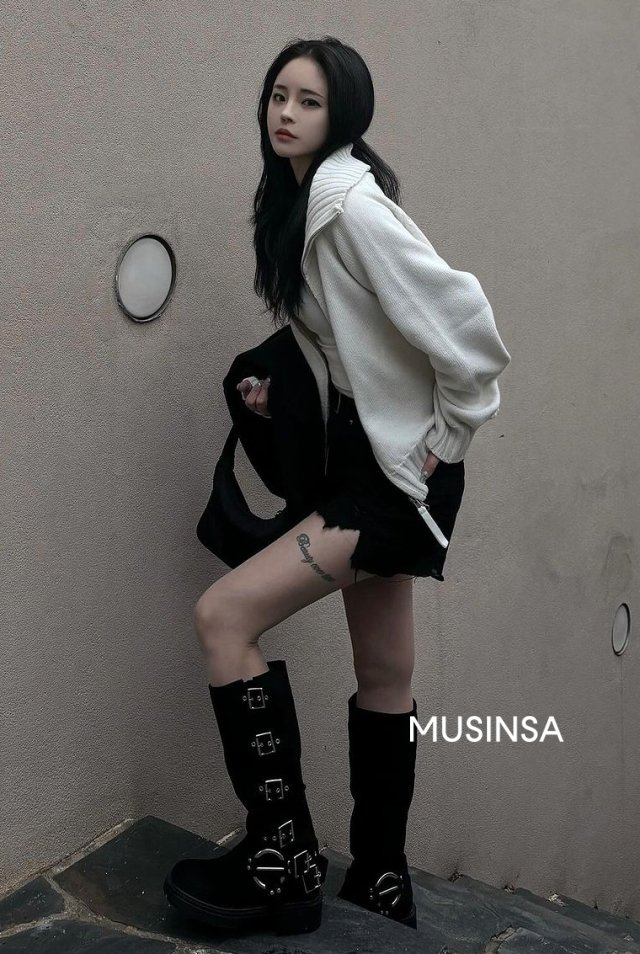Boots: (164, 668, 430, 936)
Handbag: (189, 420, 294, 572)
Outer: (267, 153, 504, 484)
Skirt: (314, 418, 464, 594)
